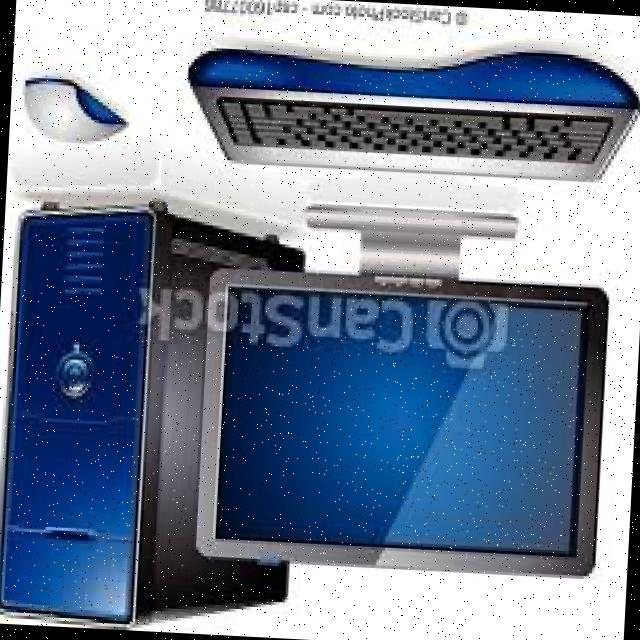Computer: (0, 194, 213, 626)
Monitor: (190, 254, 618, 590)
